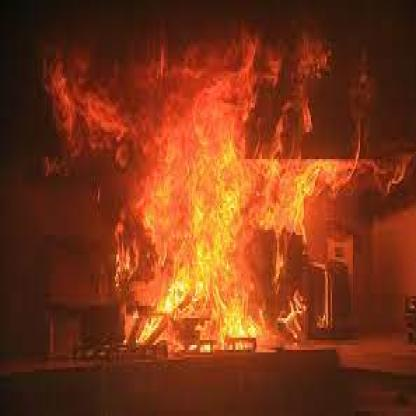fire: (43, 32, 416, 365)
